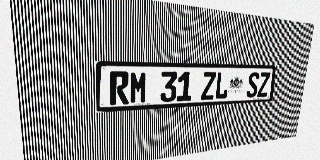1: (176, 72, 193, 101)
3: (160, 71, 177, 102)
L: (214, 72, 229, 99)
M: (129, 71, 148, 104)
R: (110, 71, 129, 105)
S: (246, 72, 260, 98)
Z: (201, 72, 216, 100), (257, 72, 270, 97)
